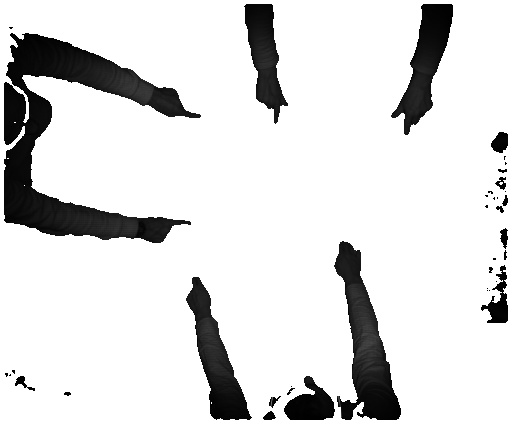hand: (385, 84, 439, 135), (154, 80, 207, 119), (256, 76, 287, 127), (328, 240, 367, 280), (142, 216, 191, 247), (184, 272, 215, 315)
